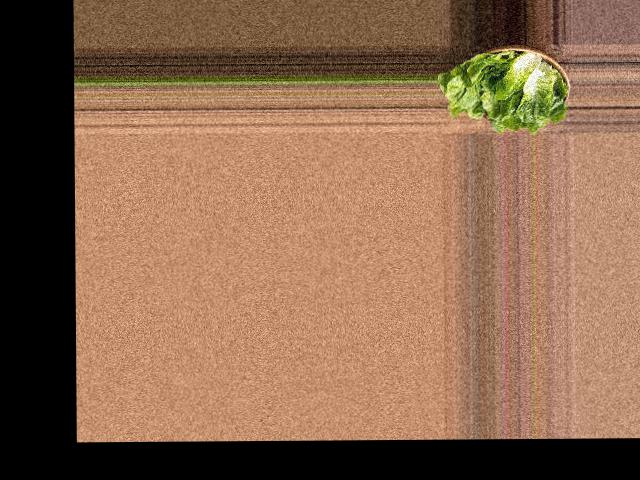lettuce: (439, 45, 575, 130)
